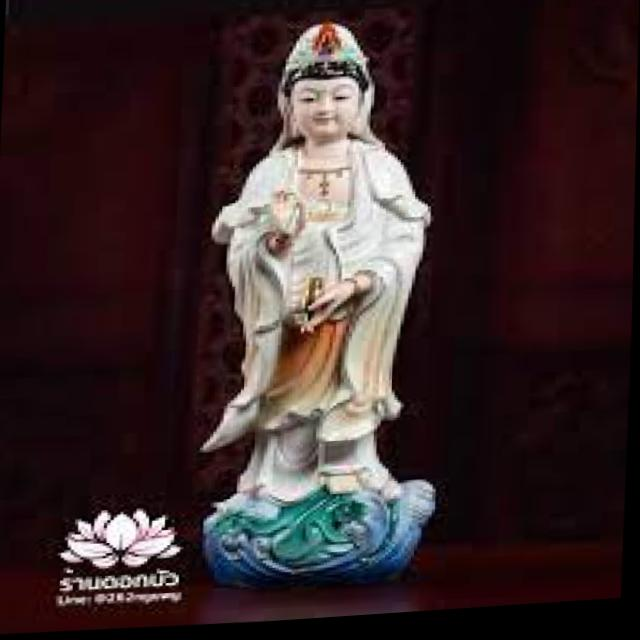Guan Yin: (211, 16, 443, 495)
